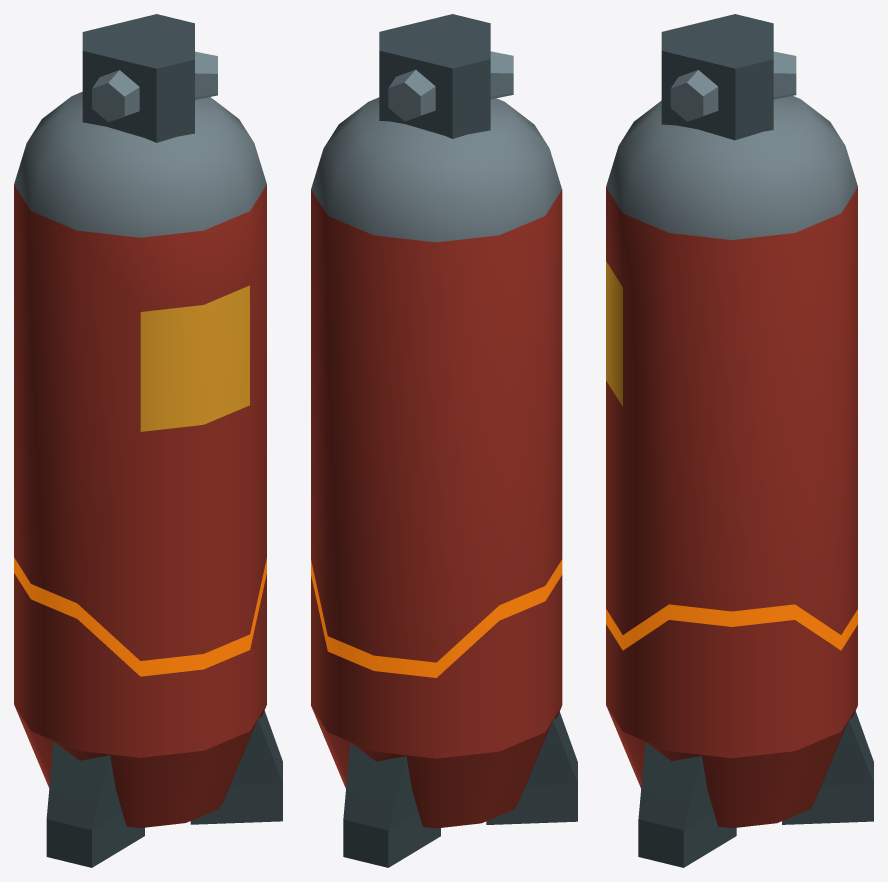
Rendered from Baloon_008.glb.
The picture shows the model from 3 angles, left to right: view 1: azimuth 30°, elevation 25°; view 2: azimuth 150°, elevation 25°; view 3: azimuth 270°, elevation 25°; orthographic projection.
Visible parts, largest first — view 1: Baloon_008; view 2: Baloon_008; view 3: Baloon_008.
Part boxes in pixels (<box>): Baloon_008: <box>14,14,282,867</box>; Baloon_008: <box>311,14,577,867</box>; Baloon_008: <box>606,14,873,867</box>.
Size of the model in its own units: 0.4156 by 1.3 by 0.4095.
Materials: 2 (2 with a texture image).
